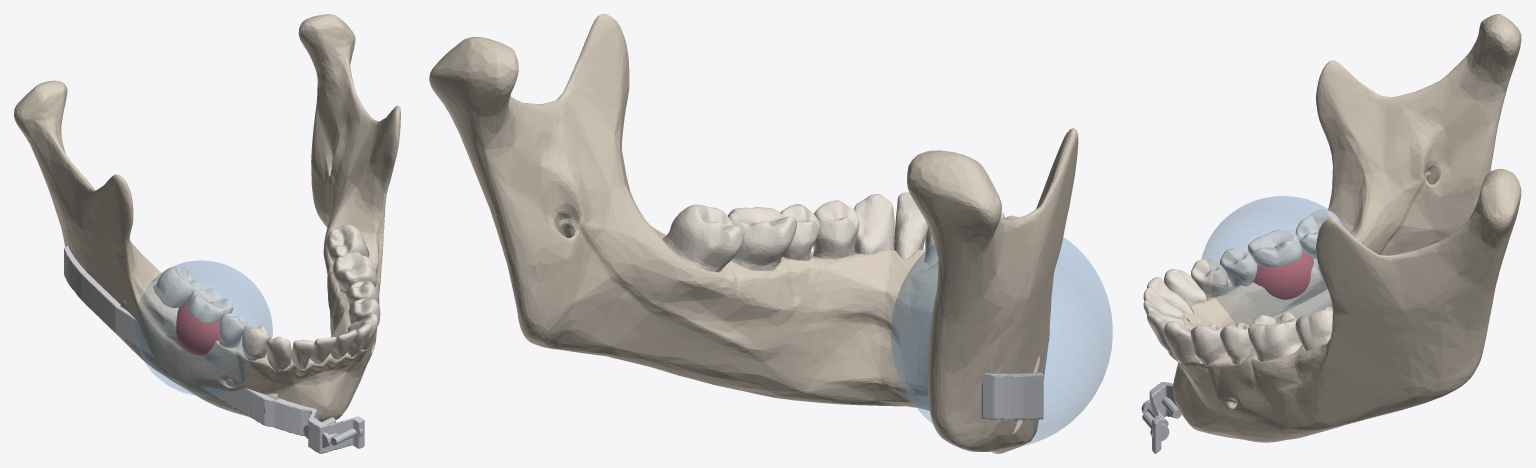
The model's file is scc.glb.
3 views of the same model, side by side, from view 1: azimuth 30°, elevation 25°; view 2: azimuth 150°, elevation 25°; view 3: azimuth 270°, elevation 25° (orthographic). The views are drawn at different scales.
Visible parts, largest first — view 1: bone, margin, specimen_bone, plate, teeth, specimen_teeth, lesion, extracted_teeth, screws; view 2: bone, margin, teeth, plate, specimen_bone; view 3: bone, margin, teeth, specimen_teeth, specimen_bone, lesion, plate, extracted_teeth, screws, fibula.
Part boxes in pixels (<box>): bone: <box>14,14,400,421</box>; margin: <box>134,260,272,395</box>; specimen_bone: <box>110,278,277,416</box>; plate: <box>64,246,364,453</box>; teeth: <box>291,224,380,369</box>; specimen_teeth: <box>153,267,270,364</box>; lesion: <box>176,301,220,355</box>; extracted_teeth: <box>266,336,291,371</box>; screws: <box>264,406,363,447</box>; bone: <box>429,14,1078,451</box>; margin: <box>891,219,1112,445</box>; teeth: <box>663,192,1018,272</box>; plate: <box>981,372,1043,420</box>; specimen_bone: <box>992,320,1049,453</box>; bone: <box>1168,14,1521,442</box>; margin: <box>1201,196,1351,325</box>; teeth: <box>1143,277,1332,370</box>; specimen_teeth: <box>1190,209,1342,297</box>; specimen_bone: <box>1203,202,1365,328</box>; lesion: <box>1253,246,1313,299</box>; plate: <box>1149,382,1176,453</box>; extracted_teeth: <box>1164,269,1207,305</box>; screws: <box>1141,397,1181,441</box>; fibula: <box>1272,289,1332,319</box>.
Bounding box in the file's own units: 0.103 × 0.0864 × 0.0871.
